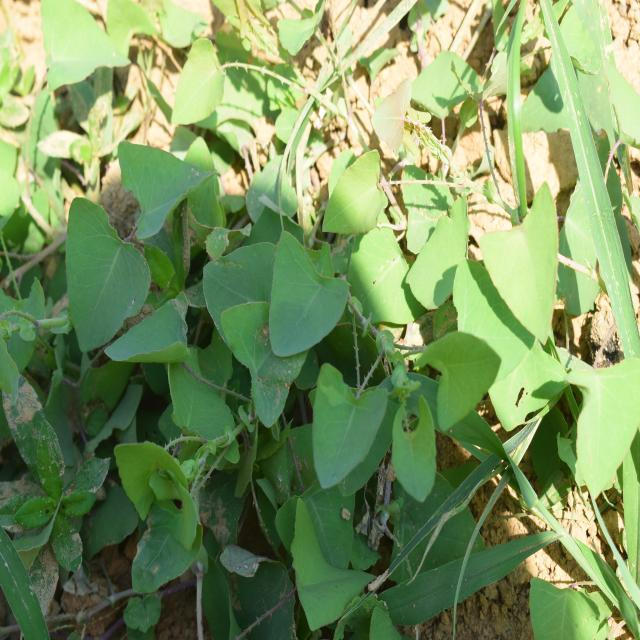Asiatic_Smartweed: (275, 160, 479, 474), (54, 144, 220, 389)
